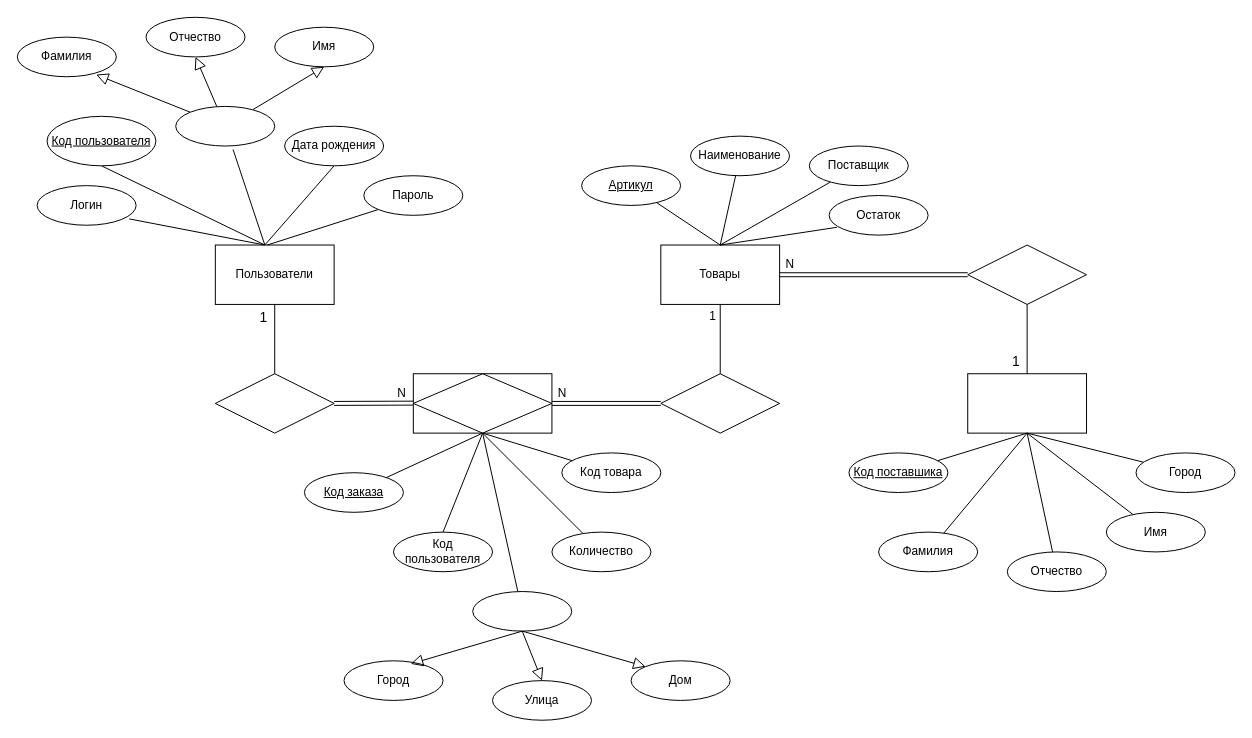
Image size: 1252x738. Some labels were removed from this diagram. Each missing label, with the centre of its shape:
Адресс доставки: (522,611)
Заказы: (482,403)
На: (720,403)
Осуществляют: (274,403)
Поставляют: (1027,274)
Поставщики: (1027,403)
ФИО: (225,125)
